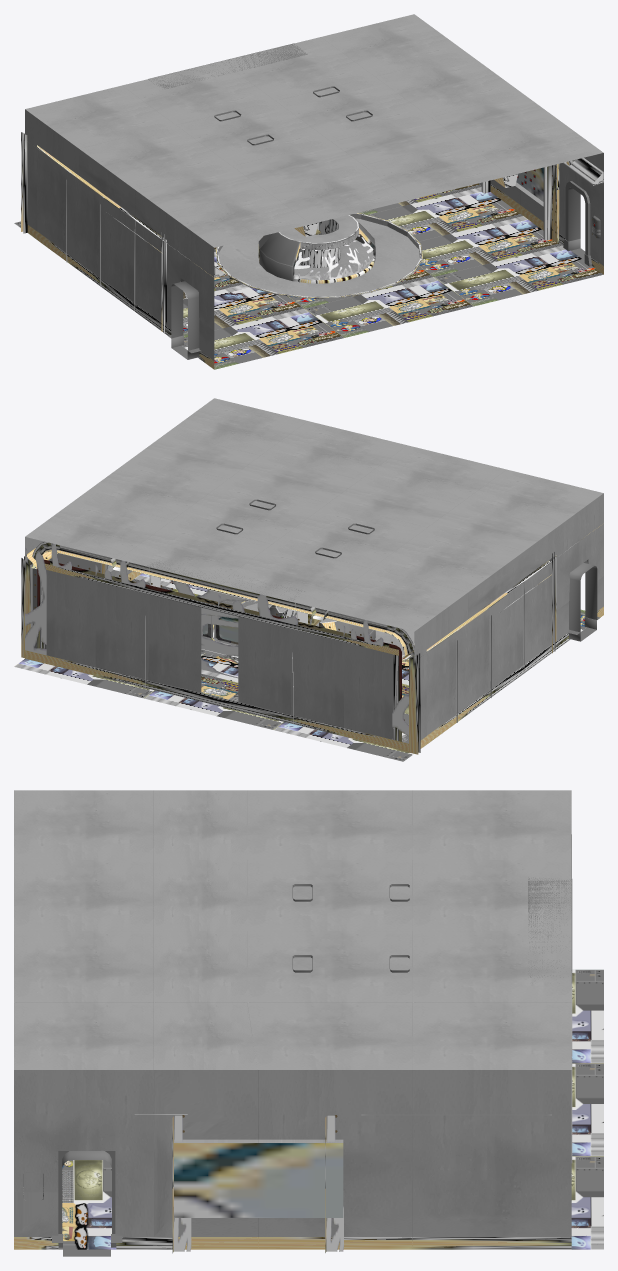
The model's file is MSH_Overseer_L2_R2_optimized.fbx.
3 views of the same model, one above another, from view 1: azimuth 30°, elevation 25°; view 2: azimuth 150°, elevation 25°; view 3: azimuth 270°, elevation 25° (orthographic). The views are drawn at different scales.
Visible parts, largest first — view 1: lightmap0; view 2: lightmap0; view 3: lightmap0.
Boxes of the visible parts, box(x1,y1,x2,y2) form: lightmap0: box(14, 14, 603, 369); lightmap0: box(14, 398, 603, 761); lightmap0: box(14, 790, 603, 1256).
Bounding box in the file's own units: 20.61 × 6.15 × 17.47.
